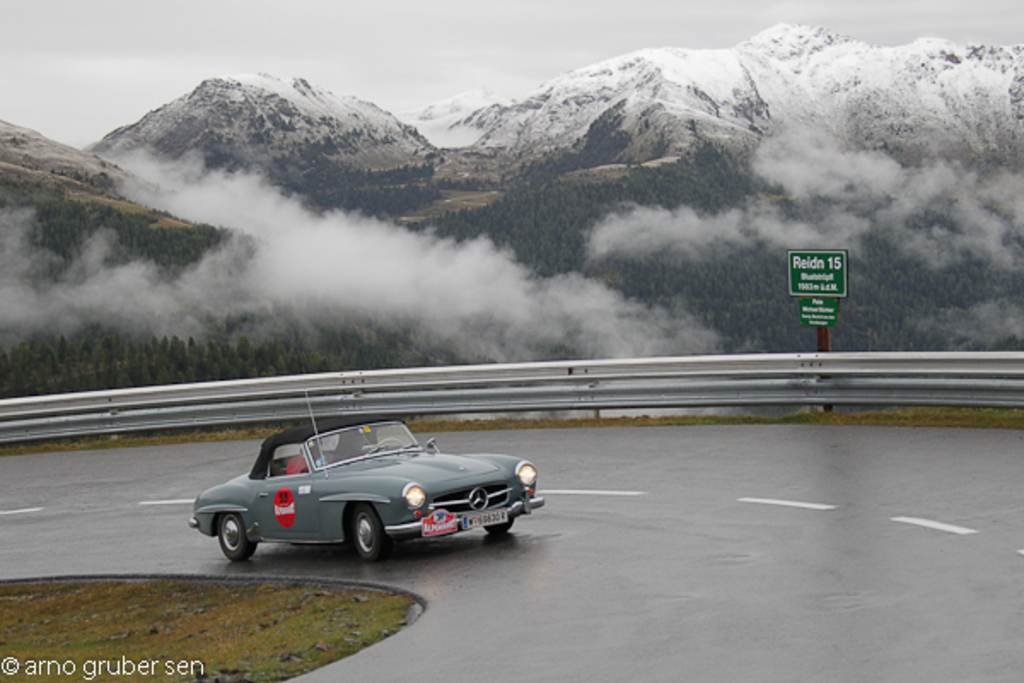Car: (191, 392, 551, 563)
